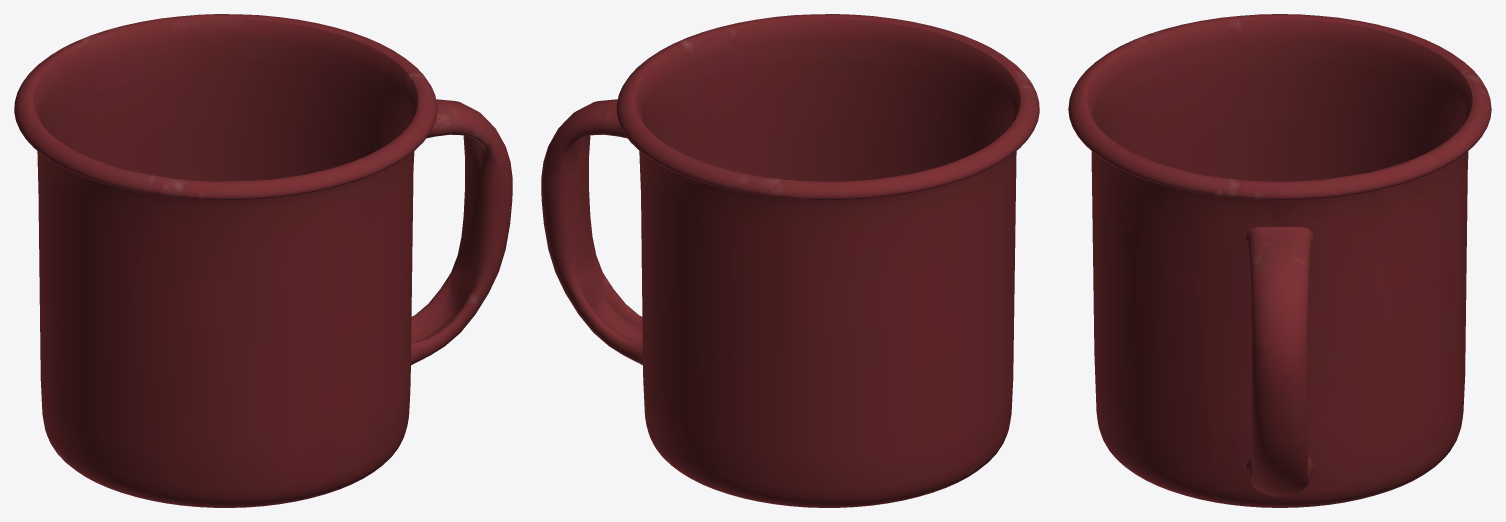
File: dishware_mug_a01.glb
3 views of the same model, side by side, from view 1: azimuth 30°, elevation 25°; view 2: azimuth 150°, elevation 25°; view 3: azimuth 270°, elevation 25° (orthographic).
Visible parts, largest first — view 1: part0; view 2: part0; view 3: part0.
Boxes of the visible parts, x1,y1,x2,y2 form: part0: (14, 14, 512, 507); part0: (541, 14, 1039, 507); part0: (1068, 14, 1491, 507).
Bounding box in the file's own units: 0.1144 × 0.08 × 0.0902.
Materials: 1 (1 with a texture image).
